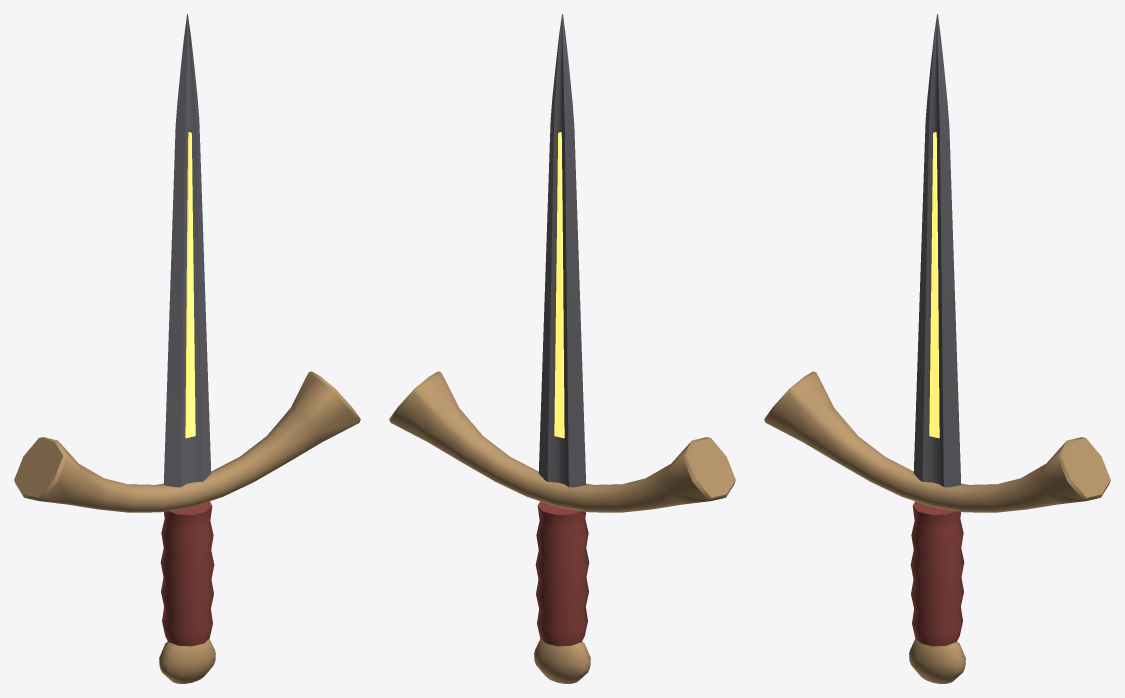
The model's file is emberfang_dirk.glb.
The picture shows the model from 3 angles, left to right: view 1: azimuth 30°, elevation 25°; view 2: azimuth 150°, elevation 25°; view 3: azimuth 330°, elevation 25°; orthographic projection.
Visible parts, largest first — view 1: emberfang_dirk; view 2: emberfang_dirk; view 3: emberfang_dirk.
Boxes of the visible parts, x1=… form: emberfang_dirk: x1=14, y1=14, x2=360, y2=683; emberfang_dirk: x1=389, y1=14, x2=735, y2=683; emberfang_dirk: x1=764, y1=14, x2=1110, y2=683.
Bounding box in the file's own units: 0.221 × 0.4282 × 0.0389.
